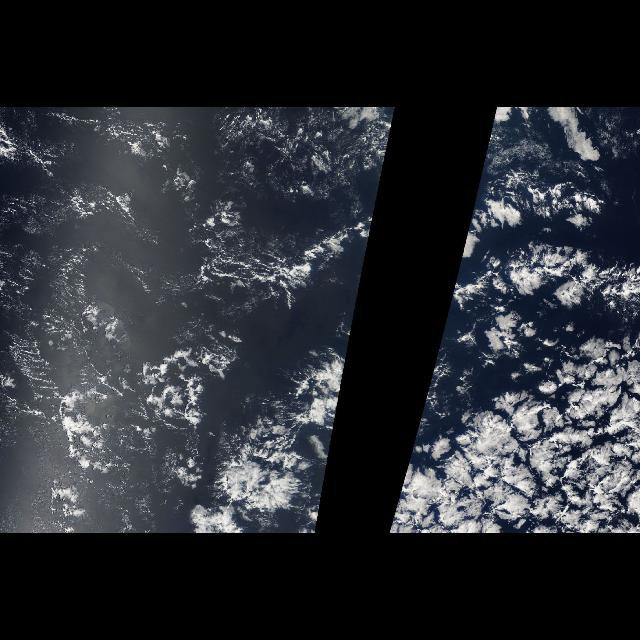Fish: (7, 115, 195, 462), (447, 190, 636, 312), (249, 190, 379, 312)
Flower: (388, 295, 640, 533), (114, 341, 350, 534)
Gravel: (42, 162, 348, 486)
Sugar: (2, 109, 148, 419)
